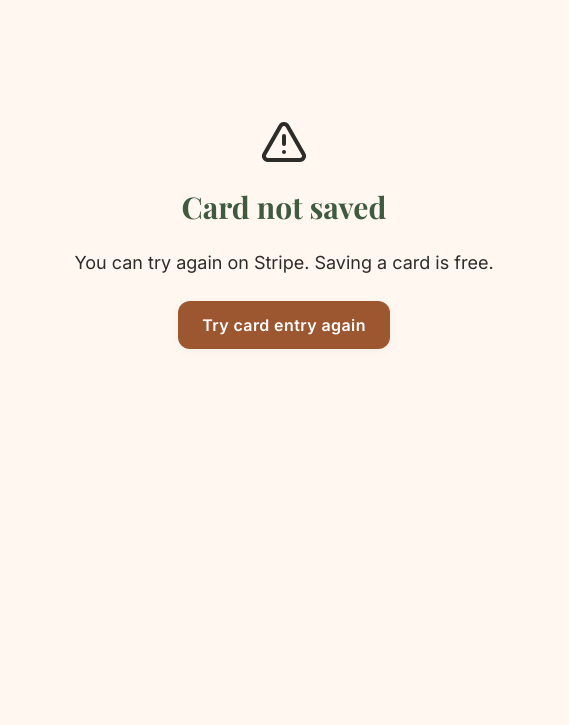
Scenario: additional audit acceptance criteria — intended behavior › lets a customer retry card entry after Stripe reports a failed setup
The width and height of the screenshot is (569, 725).
Check: the text "You can try again on Stripe. Saving a card is free." is shown, box x1=74 y1=252 x2=494 y2=272
Click the button "Try card entry again": [284, 325] box x1=178 y1=301 x2=390 y2=349
(page scrolled)
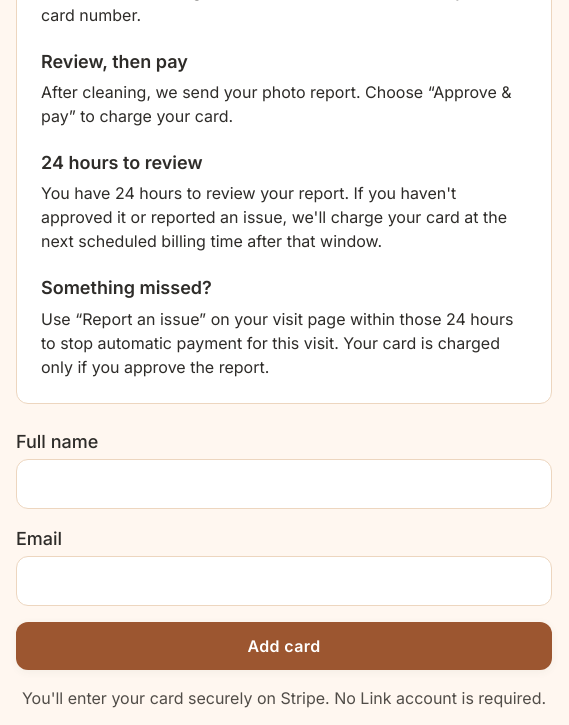
Check: the button "Add card" is shown, box x1=16 y1=622 x2=552 y2=670
